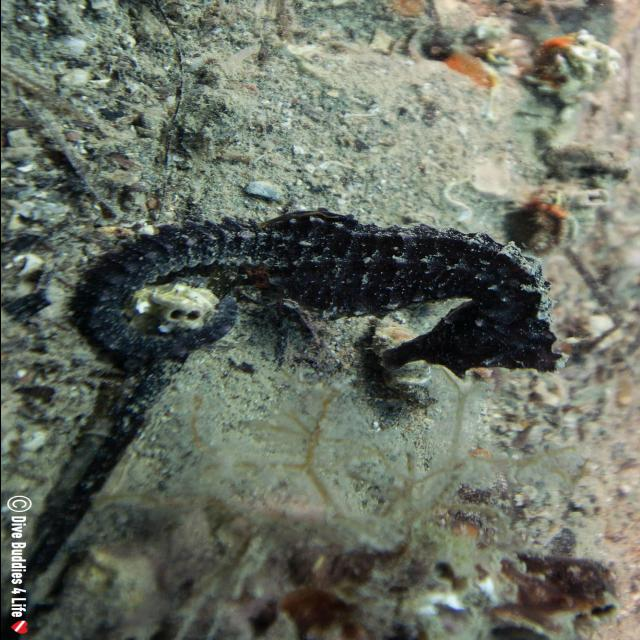Hippo: (370, 299, 564, 380)
